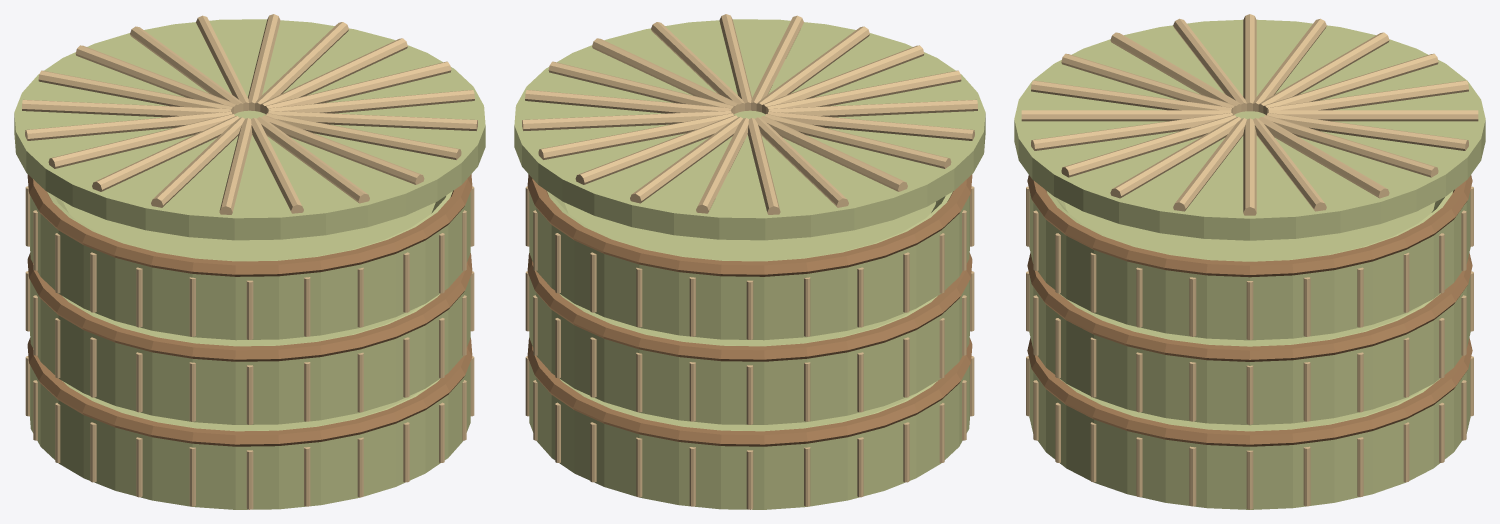
The model's file is kitchen_seiro.glb.
3 views of the same model, side by side, from view 1: azimuth 30°, elevation 25°; view 2: azimuth 150°, elevation 25°; view 3: azimuth 270°, elevation 25° (orthographic).
Visible parts, largest first — view 1: Bamboo steamer lid, Stacked bamboo seiro tray.002, Stacked bamboo seiro tray.001, Stacked bamboo seiro tray, Seiro reinforcing lip.002, Seiro reinforcing lip, Seiro reinforcing lip.001, Lid radial grain9, Lid radial grain18, Lid radial grain8, Lid radial grain19, Lid radial grain17 (+15 smaller); view 2: Bamboo steamer lid, Stacked bamboo seiro tray.002, Stacked bamboo seiro tray.001, Stacked bamboo seiro tray, Seiro reinforcing lip.002, Seiro reinforcing lip, Seiro reinforcing lip.001, Lid radial grain2, Lid radial grain11, Lid radial grain12, Lid radial grain1, Lid radial grain3 (+15 smaller); view 3: Bamboo steamer lid, Stacked bamboo seiro tray.002, Stacked bamboo seiro tray, Stacked bamboo seiro tray.001, Seiro reinforcing lip.002, Seiro reinforcing lip.001, Seiro reinforcing lip, Lid radial grain5, Lid radial grain15, Lid radial grain4, Lid radial grain16, Lid radial grain6 (+15 smaller).
Part boxes in pixels (x1=…): Bamboo steamer lid: x1=14, y1=19, x2=485, y2=240; Stacked bamboo seiro tray.002: x1=30, y1=191, x2=470, y2=340; Stacked bamboo seiro tray.001: x1=30, y1=277, x2=470, y2=424; Stacked bamboo seiro tray: x1=30, y1=362, x2=470, y2=509; Seiro reinforcing lip.002: x1=27, y1=174, x2=472, y2=276; Seiro reinforcing lip: x1=27, y1=338, x2=472, y2=446; Seiro reinforcing lip.001: x1=27, y1=253, x2=472, y2=361; Lid radial grain9: x1=25, y1=111, x2=231, y2=140; Lid radial grain18: x1=268, y1=110, x2=477, y2=130; Lid radial grain8: x1=22, y1=99, x2=231, y2=117; Lid radial grain19: x1=267, y1=90, x2=474, y2=113; Lid radial grain17: x1=266, y1=113, x2=461, y2=159; Bamboo steamer lid: x1=514, y1=19, x2=985, y2=240; Stacked bamboo seiro tray.002: x1=529, y1=191, x2=969, y2=340; Stacked bamboo seiro tray.001: x1=529, y1=277, x2=969, y2=424; Stacked bamboo seiro tray: x1=529, y1=362, x2=969, y2=509; Seiro reinforcing lip.002: x1=527, y1=174, x2=972, y2=276; Seiro reinforcing lip: x1=527, y1=338, x2=972, y2=446; Seiro reinforcing lip.001: x1=527, y1=253, x2=972, y2=361; Lid radial grain2: x1=522, y1=110, x2=731, y2=130; Lid radial grain11: x1=768, y1=111, x2=974, y2=140; Lid radial grain12: x1=768, y1=99, x2=977, y2=117; Lid radial grain1: x1=525, y1=90, x2=732, y2=113; Lid radial grain3: x1=538, y1=113, x2=733, y2=159; Bamboo steamer lid: x1=1014, y1=19, x2=1485, y2=240; Stacked bamboo seiro tray.002: x1=1029, y1=191, x2=1470, y2=340; Stacked bamboo seiro tray: x1=1029, y1=361, x2=1470, y2=509; Stacked bamboo seiro tray.001: x1=1029, y1=276, x2=1470, y2=425; Seiro reinforcing lip.002: x1=1027, y1=175, x2=1472, y2=277; Seiro reinforcing lip.001: x1=1027, y1=253, x2=1472, y2=361; Seiro reinforcing lip: x1=1027, y1=337, x2=1472, y2=446; Lid radial grain5: x1=1268, y1=110, x2=1478, y2=121; Lid radial grain15: x1=1021, y1=110, x2=1231, y2=121; Lid radial grain4: x1=1267, y1=113, x2=1468, y2=150; Lid radial grain16: x1=1031, y1=113, x2=1232, y2=150; Lid radial grain6: x1=1267, y1=80, x2=1468, y2=113.
Bounding box in the file's own units: 1.95 × 1.41 × 1.95.
